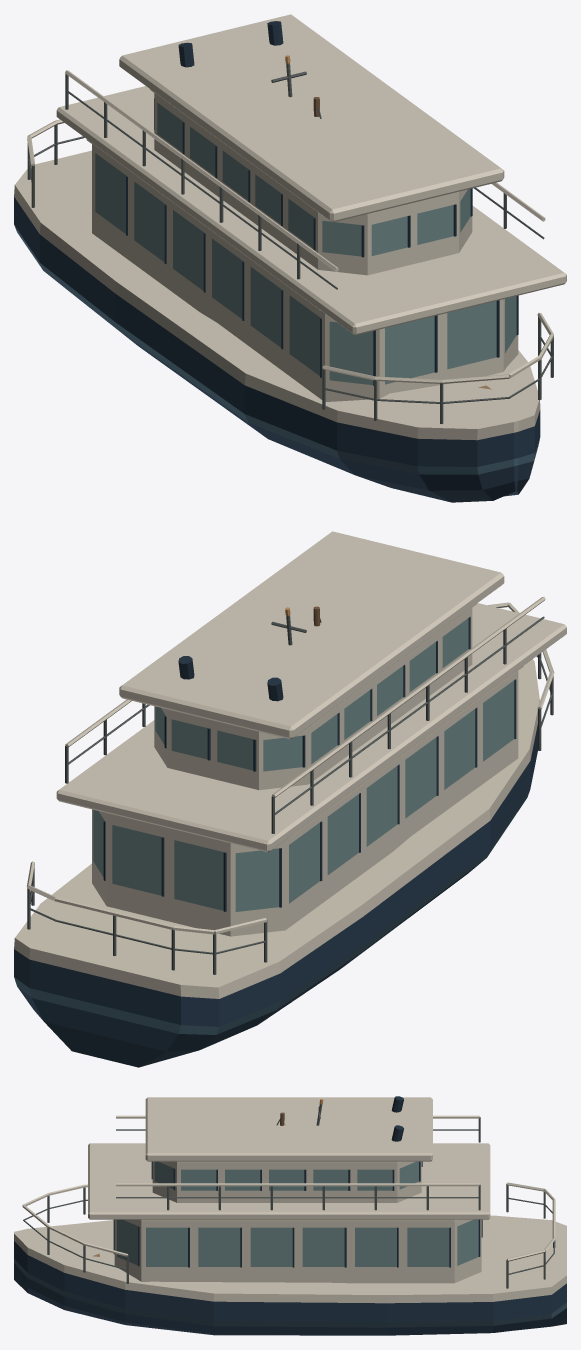
Rendered from bay-craft.glb.
The picture shows the model from 3 angles, top to bottom: view 1: azimuth 30°, elevation 25°; view 2: azimuth 150°, elevation 25°; view 3: azimuth 270°, elevation 25°; orthographic projection. The views are drawn at different scales.
Parts seen in each view (by area): view 1: Ferry_HullCabins, Ferry_Windscreens, Ferry_RailsAndFittings; view 2: Ferry_HullCabins, Ferry_Windscreens, Ferry_RailsAndFittings; view 3: Ferry_HullCabins, Ferry_Windscreens, Ferry_RailsAndFittings.
Part boxes in pixels (x1=…): Ferry_HullCabins: x1=14, y1=14, x2=566, y2=502; Ferry_Windscreens: x1=95, y1=103, x2=516, y2=385; Ferry_RailsAndFittings: x1=27, y1=21, x2=553, y2=423; Ferry_HullCabins: x1=14, y1=531, x2=566, y2=1067; Ferry_Windscreens: x1=93, y1=618, x2=514, y2=911; Ferry_RailsAndFittings: x1=27, y1=597, x2=554, y2=974; Ferry_HullCabins: x1=14, y1=1097, x2=566, y2=1335; Ferry_Windscreens: x1=117, y1=1161, x2=478, y2=1266; Ferry_RailsAndFittings: x1=22, y1=1096, x2=555, y2=1288.
Size of the model in its own units: 3.8 by 4.74 by 10.89.
